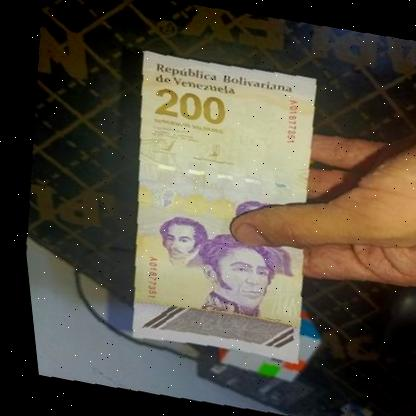two_hundred-front-vef: (79, 40, 352, 372)
